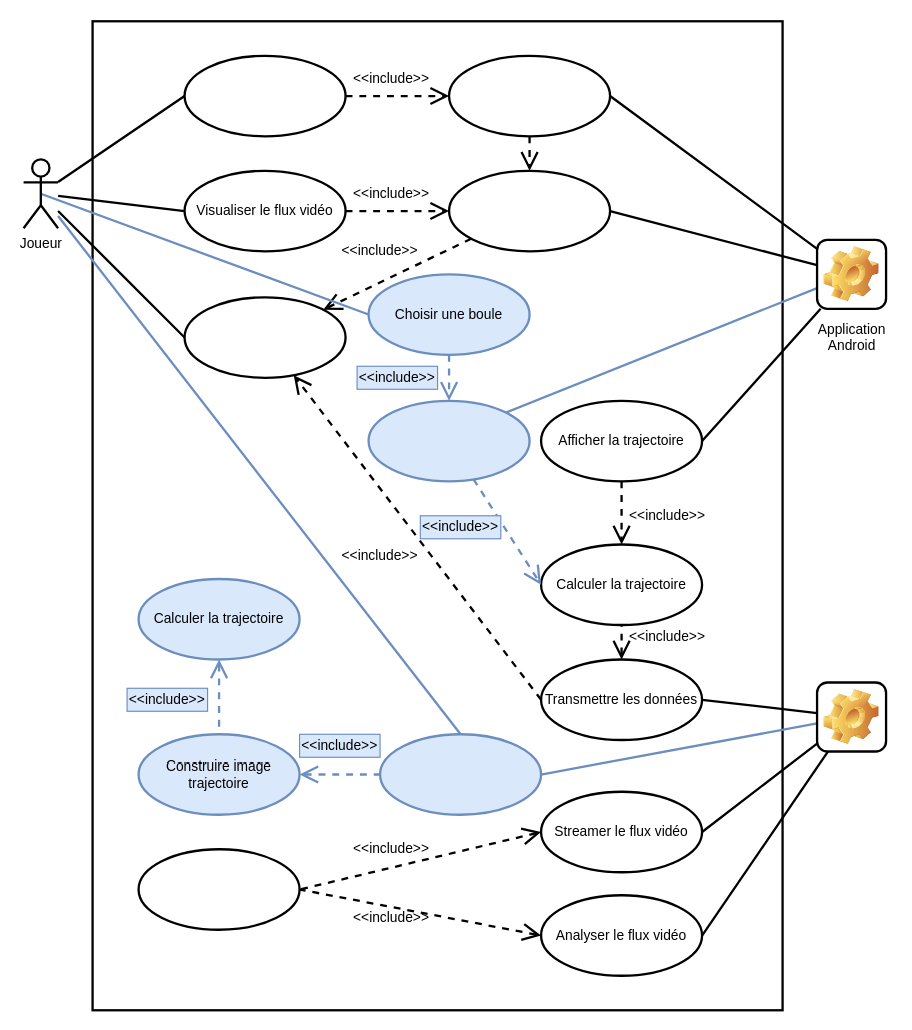
The diagram is 912 pixels wide and 1030 high, and some of its shapes have lost their labels. Here are the shapes that lost their labels. From the top down, the centre of each, then its label:
point (264, 95): Placer la queue
point (529, 95): Gérer l'affichage de la queue
point (529, 210): Afficher le flux vidéo
point (264, 337): Se connecter au Raspberry
point (448, 440): Rechercher une trajectoire
point (851, 716): Raspberry PI
point (460, 774): Projeter trajectoire
point (218, 889): Réceptionner le flux vidéo
